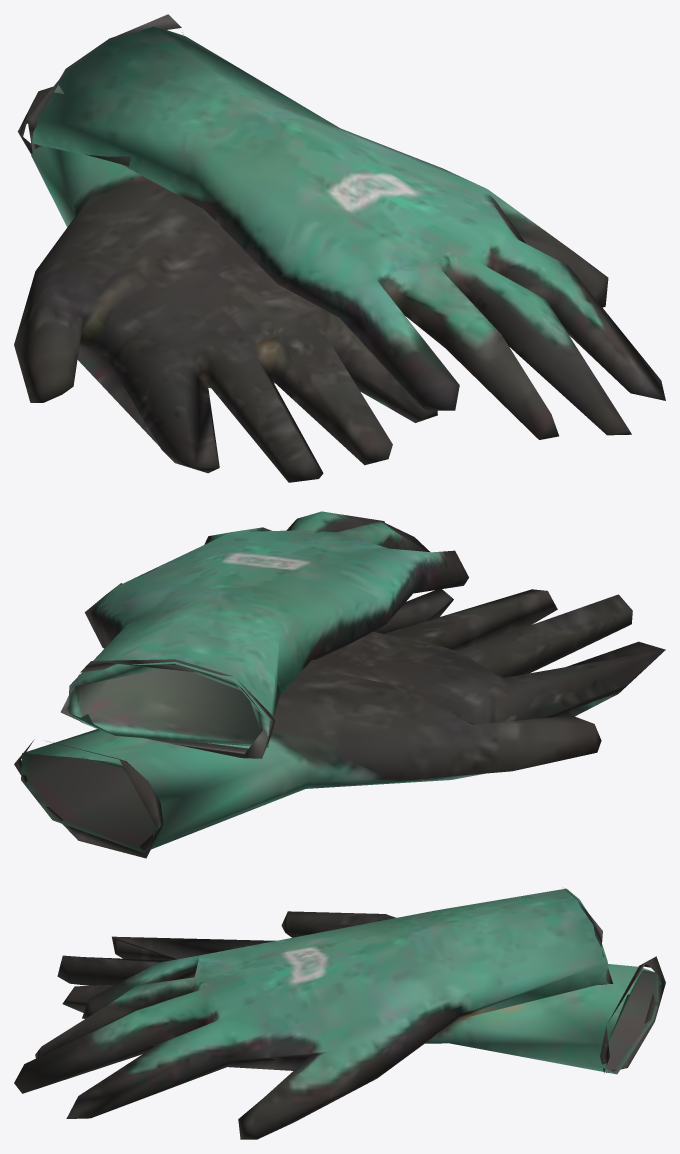
File: glove-work.glb
3 renders of one model, top to bottom at view 1: azimuth 30°, elevation 25°; view 2: azimuth 150°, elevation 25°; view 3: azimuth 270°, elevation 25°, orthographic. The views are drawn at different scales.
Parts seen in each view (by area): view 1: garden_gloves_01; view 2: garden_gloves_01; view 3: garden_gloves_01.
Boxes of the visible parts, <box> form: garden_gloves_01: <box>14,14,665,482</box>; garden_gloves_01: <box>14,511,665,858</box>; garden_gloves_01: <box>14,888,665,1139</box>.
Size of the model in its own units: 0.2249 by 0.0724 by 0.2988.
1 material, 1 textured.
